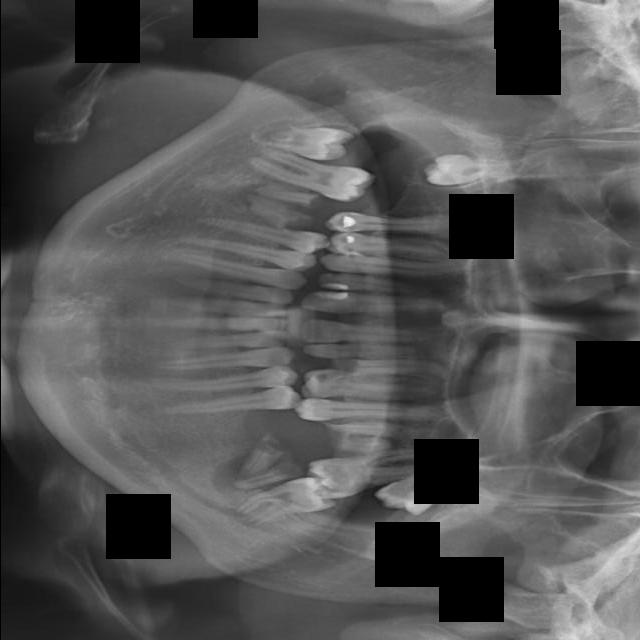3M ESPE Implant: (419, 150, 527, 187)
AGS Medikal Implant: (300, 344, 424, 358)
AMerOss Implant: (327, 344, 460, 386)
Amalgam filling: (298, 366, 441, 402)
Anthogyr Implant: (291, 400, 455, 423)
Bicon Implant: (324, 421, 406, 455)
BioHorizons Implant: (300, 440, 455, 505)
BioLife Implant: (439, 476, 440, 476)
Biomet 3i Implant: (227, 469, 339, 536)
Blue Sky Bio Implant: (219, 428, 305, 495)
Composite filling: (151, 387, 302, 422)
Cowellmedi Implant: (145, 367, 299, 399)
Crown: (146, 346, 297, 379)
DENTSPLY Implant: (149, 331, 290, 353)
Dentatus Implant: (117, 319, 289, 334)
Dentis Implant: (146, 293, 288, 320)
Dentium Implant: (162, 271, 297, 307)
Euroteknika Implant: (155, 242, 311, 294)
Filling: (167, 224, 317, 274)
Frontier Implant: (187, 212, 327, 256)
Implant: (242, 145, 382, 210)
Implant Direct: (240, 183, 321, 232)
Keystone Dental Implant: (249, 124, 359, 162)
MIS Implant: (322, 211, 463, 233)
Mandible: (325, 231, 483, 257)
Maxilla: (318, 251, 483, 279)
Megagen Implant: (312, 271, 438, 297)
Neodent Implant: (298, 289, 455, 320)
Neoss Implant: (298, 318, 439, 343)
